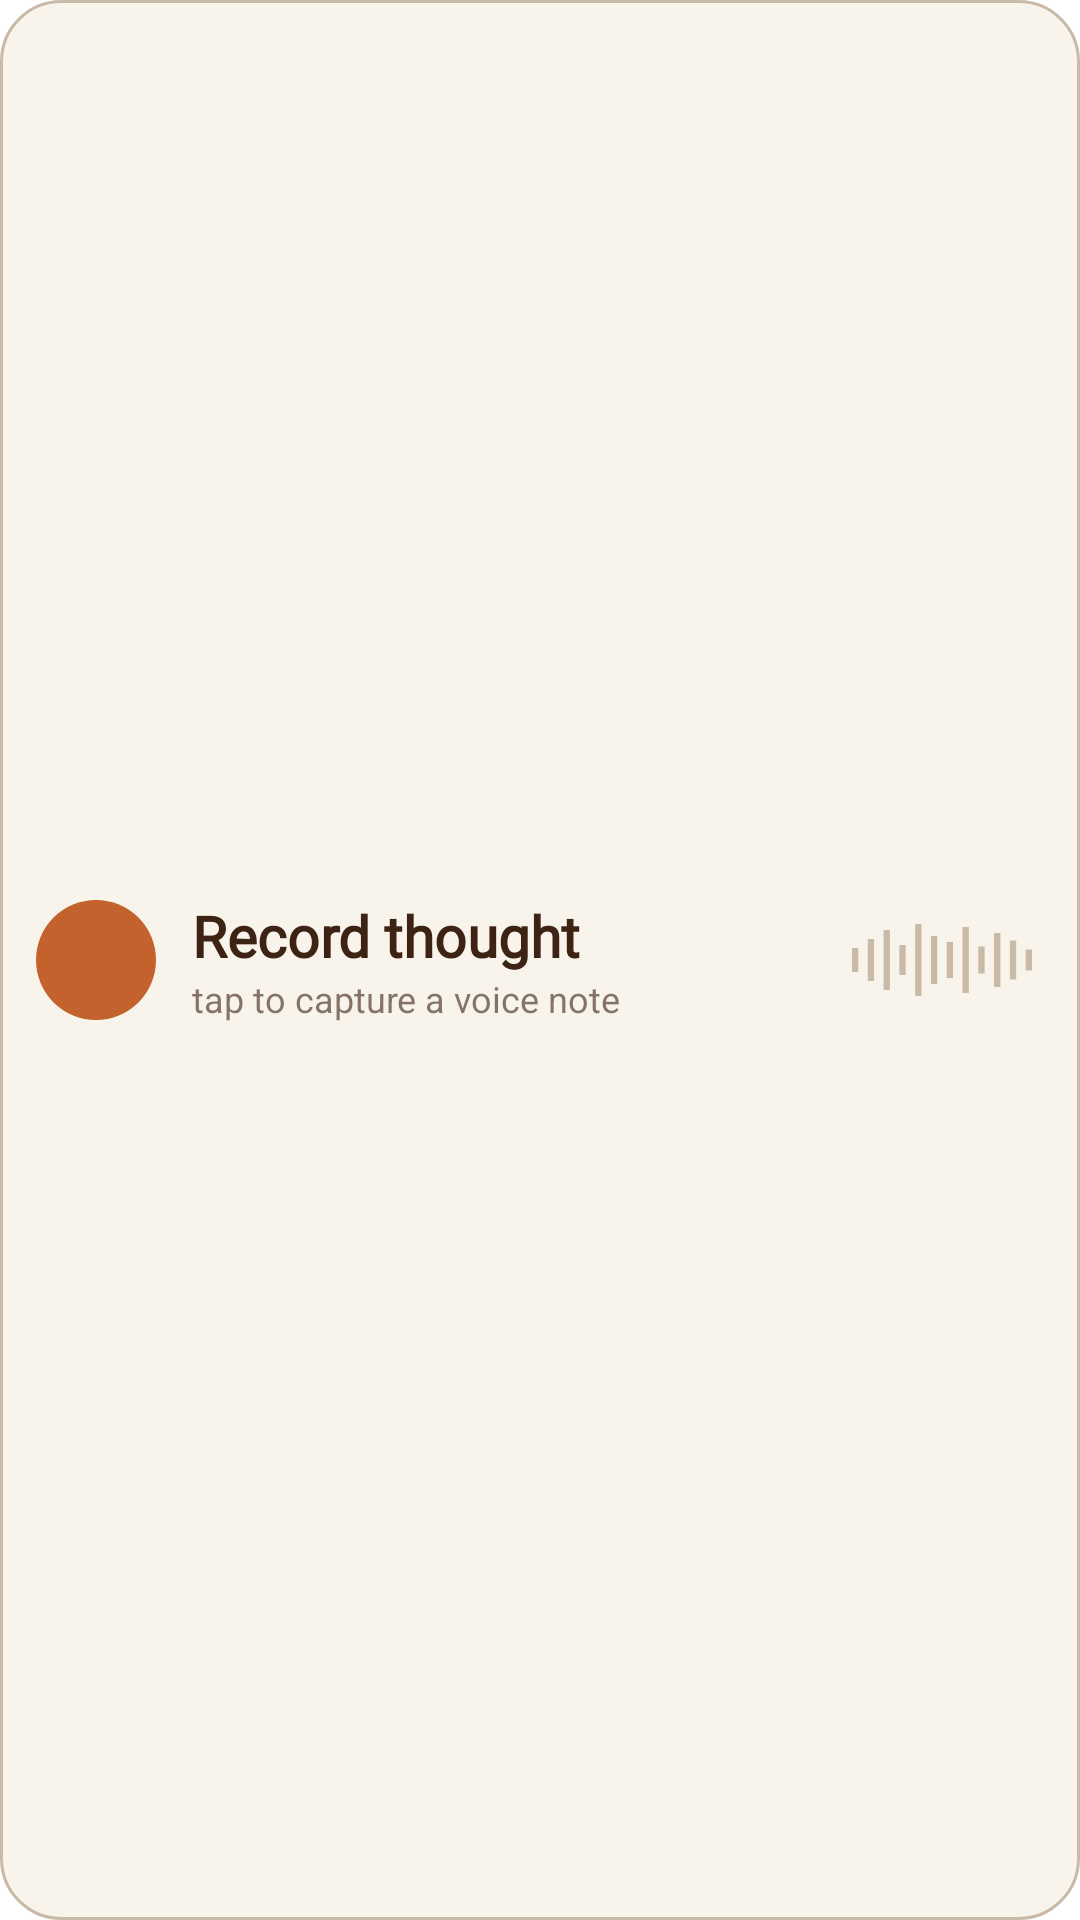

Icons on this 1080 x 1920 Android screen, each with the point to tap as [x,y]:
widget wave: [942,960]
